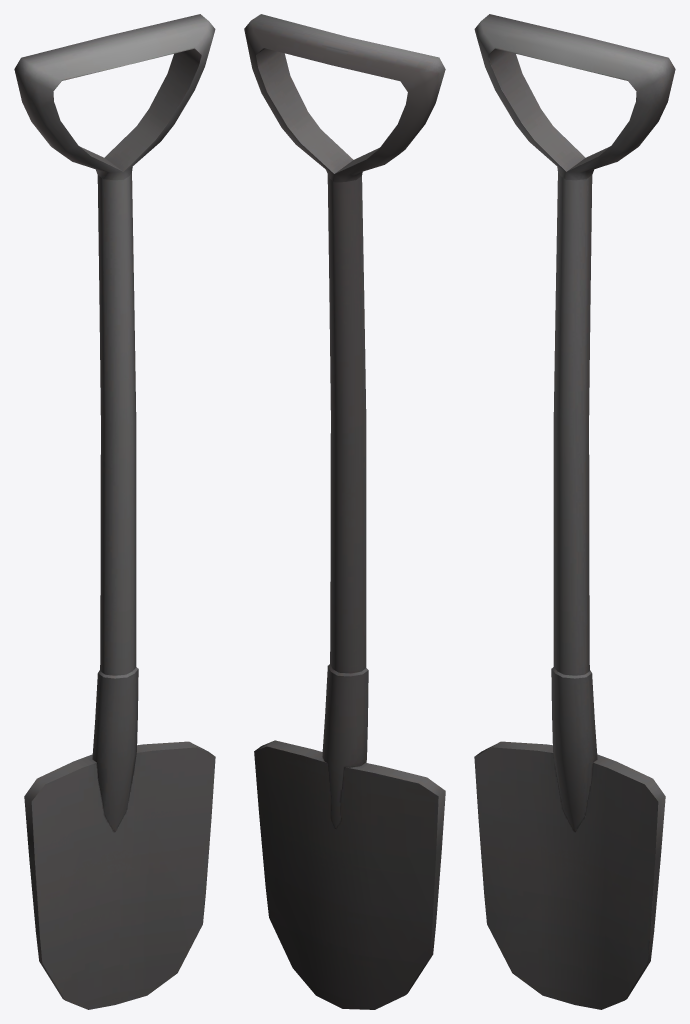
File: SM_Shovel.FBX
3 views of the same model, side by side, from view 1: azimuth 30°, elevation 25°; view 2: azimuth 150°, elevation 25°; view 3: azimuth 330°, elevation 25° (orthographic).
Visible parts, largest first — view 1: SM_Shovel; view 2: SM_Shovel; view 3: SM_Shovel.
Boxes of the visible parts, x1,y1,x2,y2 form: SM_Shovel: (14,14,215,1009); SM_Shovel: (244,14,445,1009); SM_Shovel: (474,14,675,1009).
Bounding box in the file's own units: 21.39 × 5.19 × 103.
